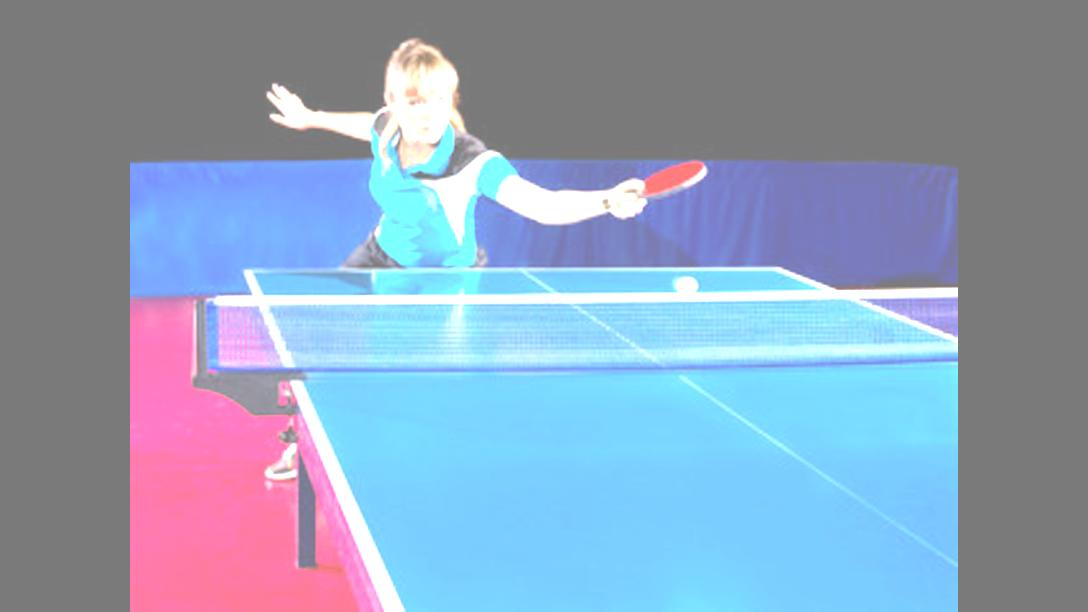Table-Tennis-Ball: (678, 276, 696, 294)
